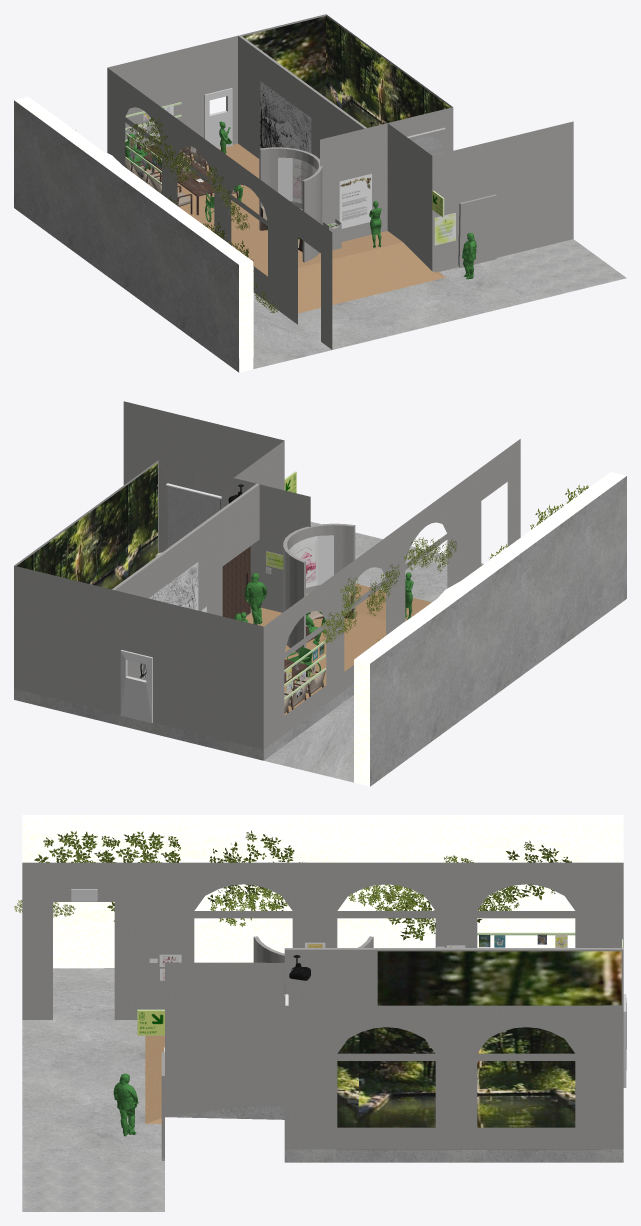
3 renders of one model, top to bottom at view 1: azimuth 30°, elevation 25°; view 2: azimuth 150°, elevation 25°; view 3: azimuth 270°, elevation 25°, orthographic. The views are drawn at different scales.
Visible parts, largest first — view 1: Building, outside wall, projection screen, circular-gallery, Dear Little House (2), lighting branches, Group 33, documentationpin1, emergency door, Table, Plane.016, Gallery Plaque (+1 smaller); view 2: Building, outside wall, projection screen, circular-gallery, lighting branches, Cylinder, emergency door, sliding door to projector room, documentationpin1, Dear Little House (2), Plane.016, Lowpoly Female Standing; view 3: Building, outside wall, projection screen, Circaea Lutetiana Weed Plant Large .001, lighting branches, Lowpoly Female Standing.002, artgallery signage, circular-gallery.
Part boxes in pixels (left/top/right/bottom): Building: left=107, top=14, right=626, bottom=351; outside wall: left=14, top=97, right=323, bottom=372; projection screen: left=243, top=16, right=450, bottom=127; circular-gallery: left=259, top=147, right=322, bottom=262; Dear Little House (2): left=260, top=81, right=311, bottom=152; lighting branches: left=130, top=117, right=249, bottom=230; Group 33: left=339, top=174, right=371, bottom=228; documentationpin1: left=278, top=157, right=316, bottom=203; emergency door: left=204, top=88, right=232, bottom=148; Table: left=140, top=144, right=214, bottom=215; Plane.016: left=125, top=156, right=192, bottom=214; Gallery Plaque: left=434, top=213, right=455, bottom=245; Building: left=14, top=401, right=520, bottom=762; outside wall: left=273, top=472, right=626, bottom=786; projection screen: left=16, top=463, right=157, bottom=589; circular-gallery: left=283, top=523, right=355, bottom=652; lighting branches: left=321, top=537, right=457, bottom=643; Cylinder: left=166, top=483, right=221, bottom=547; emergency door: left=120, top=650, right=152, bottom=723; sliding door to projector room: left=222, top=546, right=250, bottom=619; documentationpin1: left=289, top=535, right=333, bottom=587; Dear Little House (2): left=140, top=562, right=198, bottom=679; Plane.016: left=284, top=669, right=325, bottom=713; Lowpoly Female Standing: left=244, top=573, right=266, bottom=624; Building: left=22, top=862, right=623, bottom=1211; outside wall: left=22, top=815, right=623, bottom=1014; projection screen: left=337, top=951, right=621, bottom=1127; Circaea Lutetiana Weed Plant Large .001: left=34, top=830, right=571, bottom=940; lighting branches: left=210, top=855, right=523, bottom=926; Lowpoly Female Standing.002: left=113, top=1073, right=138, bottom=1136; artgallery signage: left=137, top=1010, right=164, bottom=1035; circular-gallery: left=253, top=936, right=373, bottom=962.
Bounding box in the file's own units: 15.01 × 4.35 × 15.39.
77 materials, 52 textured.
